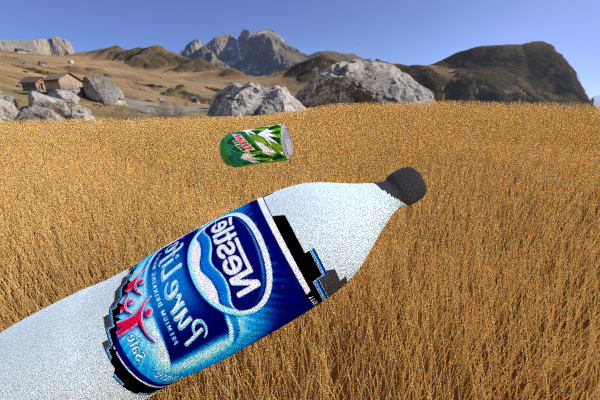bottle: (0, 166, 426, 400)
can: (218, 123, 292, 167), (380, 118, 410, 147)
